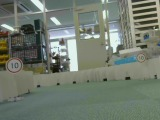speed_10: (5, 57, 23, 74), (135, 52, 146, 64)
